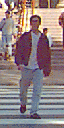person: (11, 16, 49, 115)
